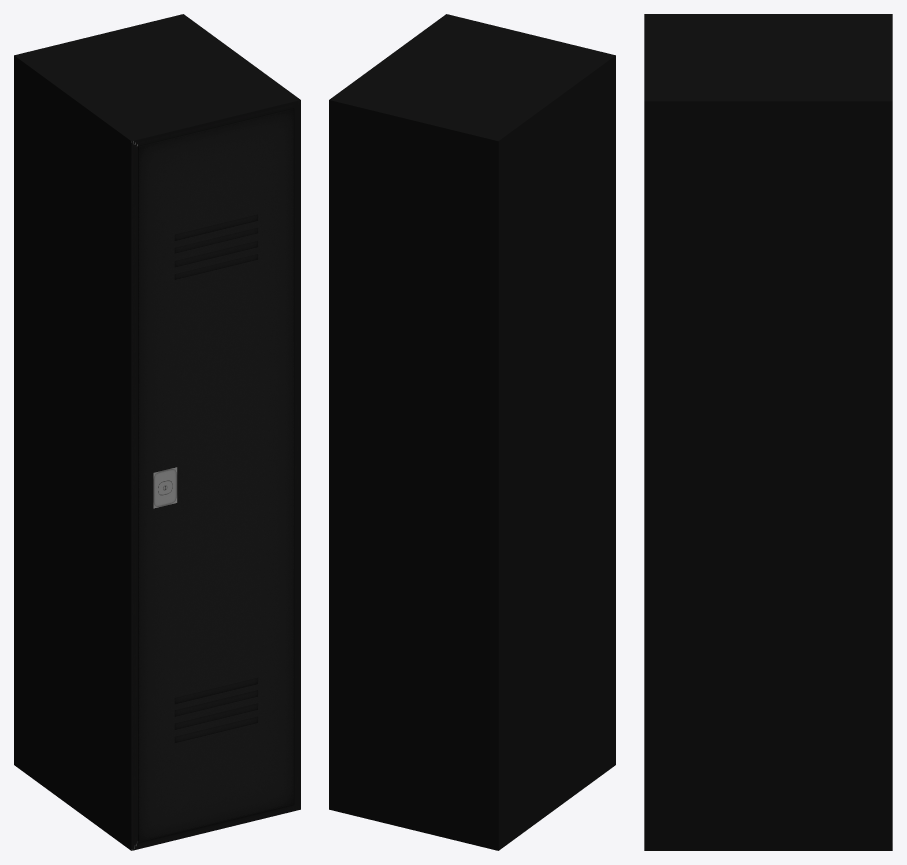
File: school_storage_locker_lowpoly.glb
3 renders of one model, left to right at view 1: azimuth 30°, elevation 25°; view 2: azimuth 150°, elevation 25°; view 3: azimuth 270°, elevation 25°, orthographic. The views are drawn at different scales.
Parts seen in each view (by area): view 1: Object_2; view 2: Object_2; view 3: Object_2.
Boxes of the visible parts, <box> form: Object_2: <box>14,14,300,850</box>; Object_2: <box>329,14,615,850</box>; Object_2: <box>644,14,892,850</box>.
Size of the model in its own units: 0.5 by 2 by 0.6.
Materials: 1 (1 with a texture image).
